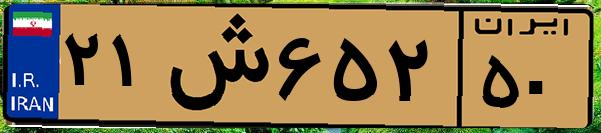0: (525, 38, 570, 115)
1: (110, 28, 158, 98)
2: (385, 28, 445, 110), (57, 26, 110, 100)
5: (330, 28, 385, 110), (475, 38, 525, 113)
6: (270, 28, 330, 110)
ش: (158, 12, 270, 120)
